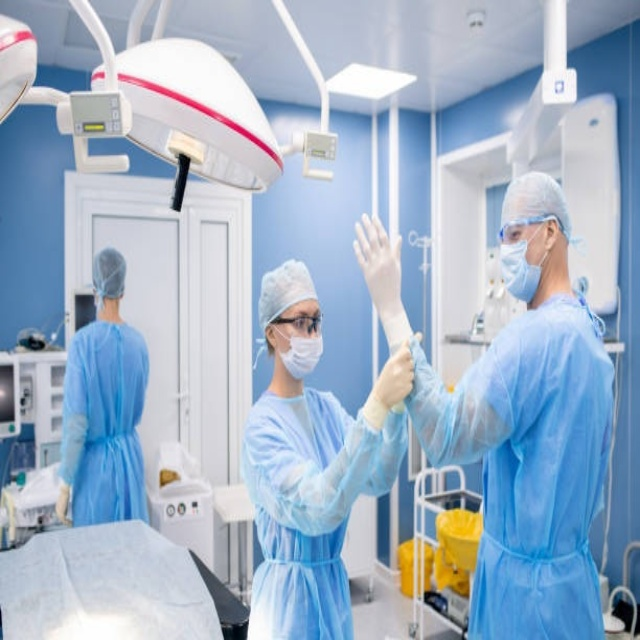Gafas: (499, 215, 557, 243), (272, 314, 324, 336)
Guantes: (352, 212, 415, 340), (363, 337, 420, 430), (52, 478, 75, 525)
Mascara: (496, 242, 543, 306), (276, 329, 325, 378)
